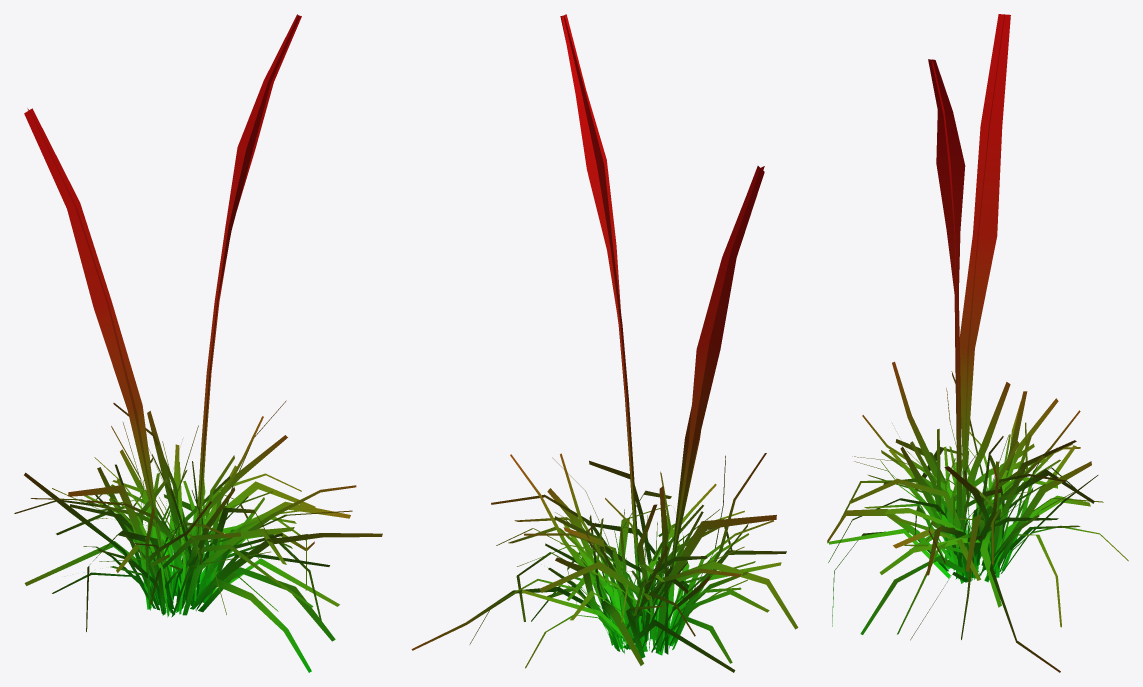
Rendered from Wheat_LOD2_Var5_smdoejyr.fbx.
3 renders of one model, left to right at view 1: azimuth 30°, elevation 25°; view 2: azimuth 150°, elevation 25°; view 3: azimuth 270°, elevation 25°, orthographic. The views are drawn at different scales.
Parts seen in each view (by area): view 1: _tbcb_Var5_LOD2; view 2: _tbcb_Var5_LOD2; view 3: _tbcb_Var5_LOD2.
Boxes of the visible parts, x1,y1,x2,y2 form: _tbcb_Var5_LOD2: [14, 14, 382, 672]; _tbcb_Var5_LOD2: [411, 14, 798, 672]; _tbcb_Var5_LOD2: [827, 14, 1128, 672].
Bounding box in the file's own units: 29.15 × 53.24 × 24.81.
